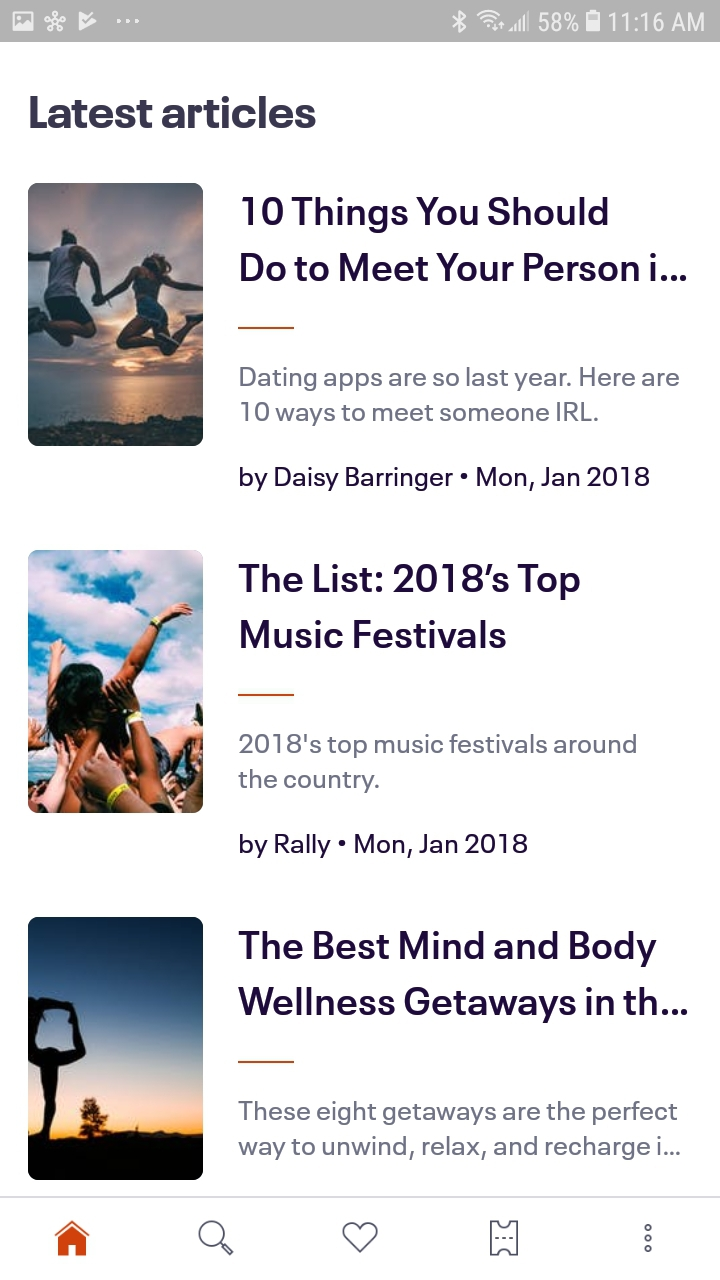Icon: (54, 1220, 90, 1256), (199, 1219, 234, 1255), (342, 1221, 379, 1253), (490, 1220, 519, 1257), (644, 1224, 653, 1253)
Image: (29, 917, 204, 1181), (29, 184, 204, 447), (29, 551, 204, 814)
Text: (238, 930, 688, 1023), (241, 198, 687, 283), (238, 563, 580, 649), (238, 1101, 680, 1161), (240, 367, 680, 427), (238, 734, 637, 793), (240, 467, 649, 492), (30, 96, 316, 130), (240, 834, 528, 859)
UpperTaskBar: (1, 1, 719, 43)
